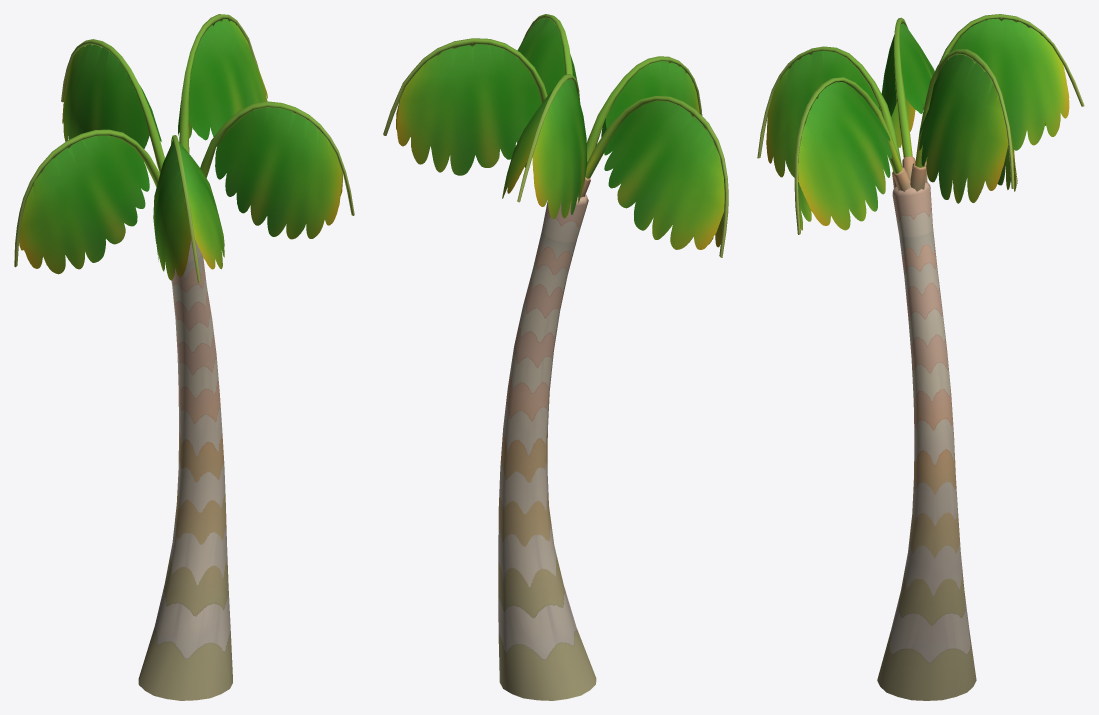
The model's file is a_haidao_yezishu_0001.fbx.
3 views of the same model, side by side, from view 1: azimuth 30°, elevation 25°; view 2: azimuth 150°, elevation 25°; view 3: azimuth 270°, elevation 25° (orthographic). The views are drawn at different scales.
Visible parts, largest first — view 1: m_haidao_yezishu_01_b; view 2: m_haidao_yezishu_01_b; view 3: m_haidao_yezishu_01_b.
Boxes of the visible parts, bbox=[...] form: m_haidao_yezishu_01_b: bbox=[14, 14, 354, 700]; m_haidao_yezishu_01_b: bbox=[383, 14, 728, 700]; m_haidao_yezishu_01_b: bbox=[757, 14, 1084, 700].
Bounding box in the file's own units: 4.18 × 8.68 × 3.96.
1 material, 1 textured.
